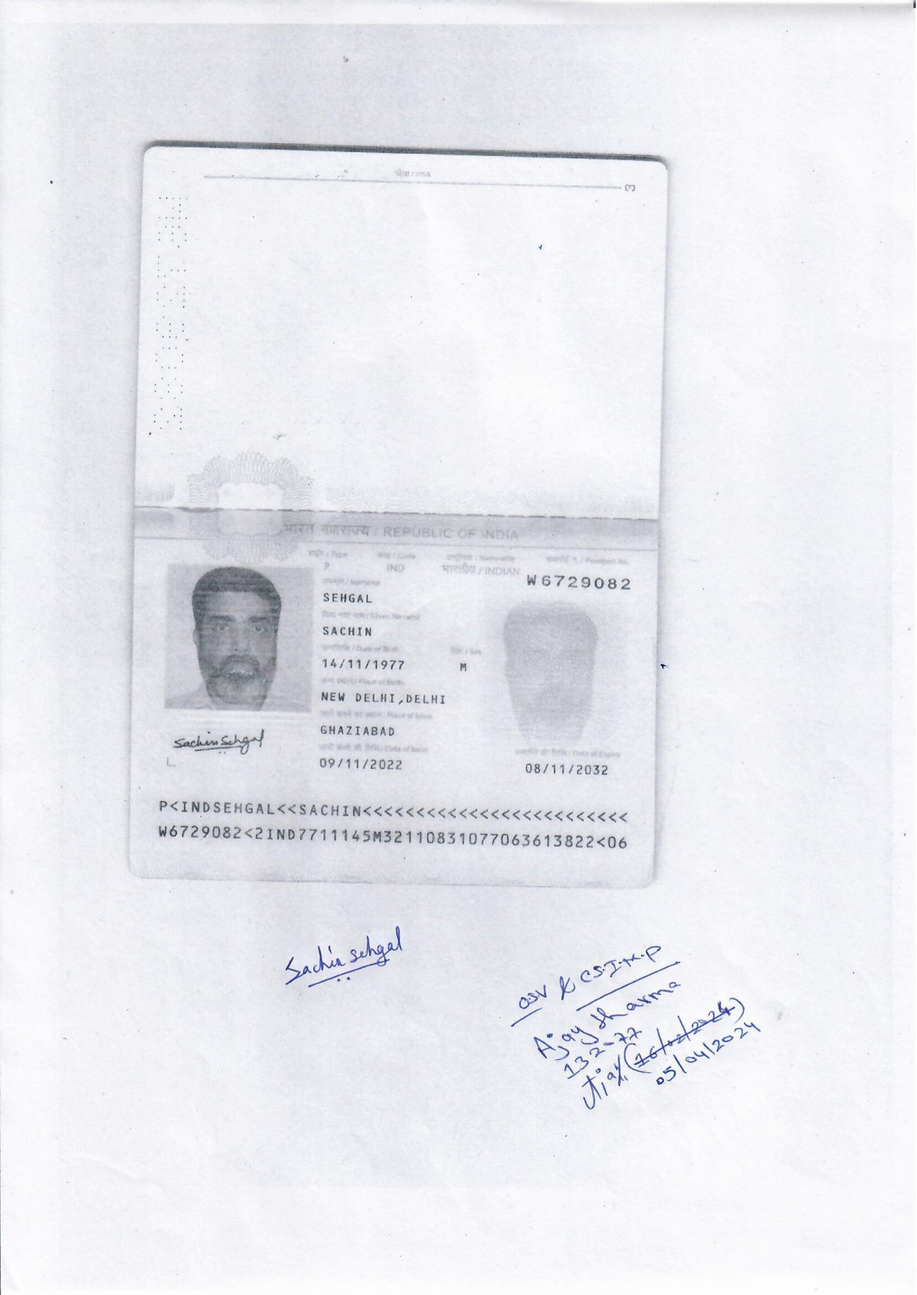DOB: (317, 651, 416, 678)
Surname: (319, 587, 375, 609)
country_code: (380, 557, 412, 575)
date_of_expiry: (511, 755, 625, 781)
date_of_issue: (317, 746, 412, 780)
details: (152, 788, 639, 862)
name: (317, 620, 423, 641)
nationality: (431, 559, 524, 583)
passport_no: (518, 566, 636, 594)
photo: (167, 565, 306, 700)
place_of_birth: (316, 685, 457, 711)
place_of_issue: (313, 715, 406, 745)
sex: (444, 654, 483, 682)
sign: (161, 719, 273, 769)
type: (316, 557, 349, 579)
